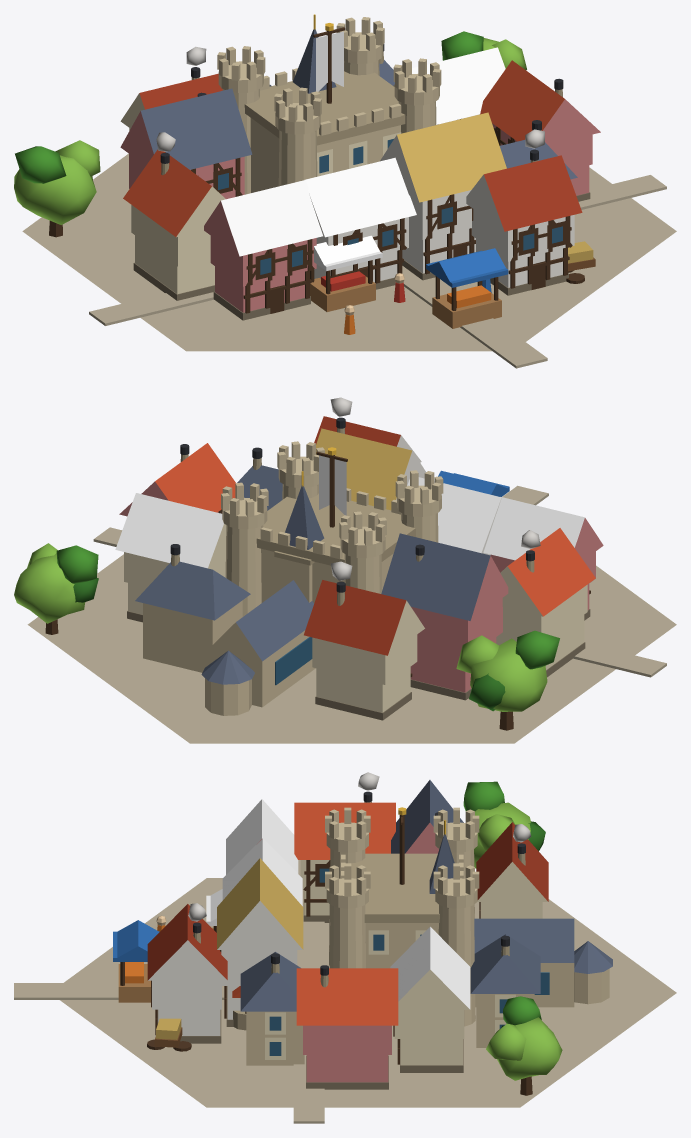
Rendered from city_1_3.fbx.
The picture shows the model from 3 angles, top to bottom: view 1: azimuth 30°, elevation 25°; view 2: azimuth 150°, elevation 25°; view 3: azimuth 270°, elevation 25°; orthographic projection. The views are drawn at different scales.
Parts seen in each view (by area): view 1: city_1_3; view 2: city_1_3; view 3: city_1_3.
Part boxes in pixels (box(x1,y1,x2,y2)): city_1_3: box(14, 14, 676, 368); city_1_3: box(14, 397, 676, 743); city_1_3: box(14, 772, 676, 1123).
Size of the model in its own units: 208 by 67.85 by 222.
